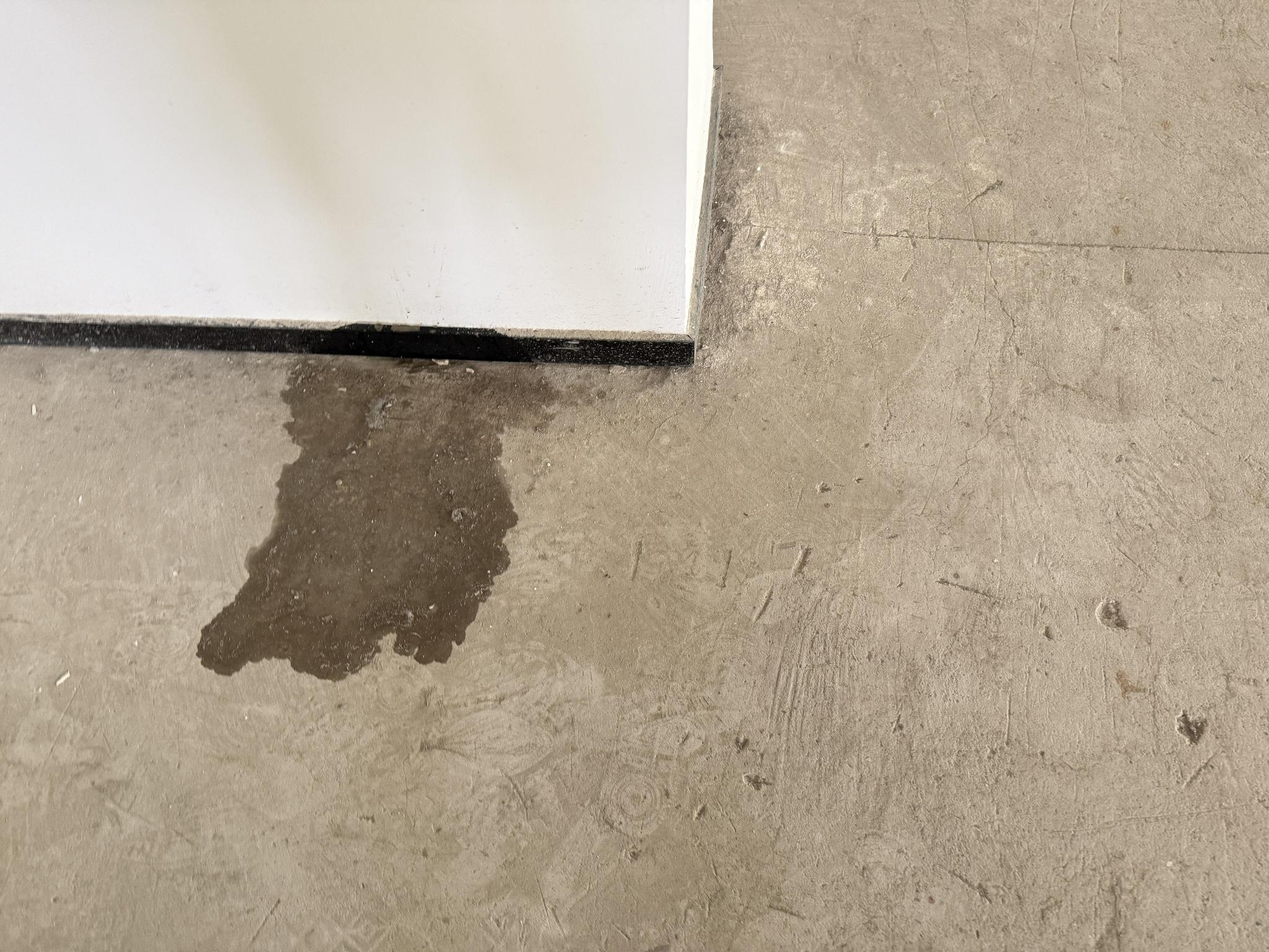water accumulation: (198, 362, 553, 680)
